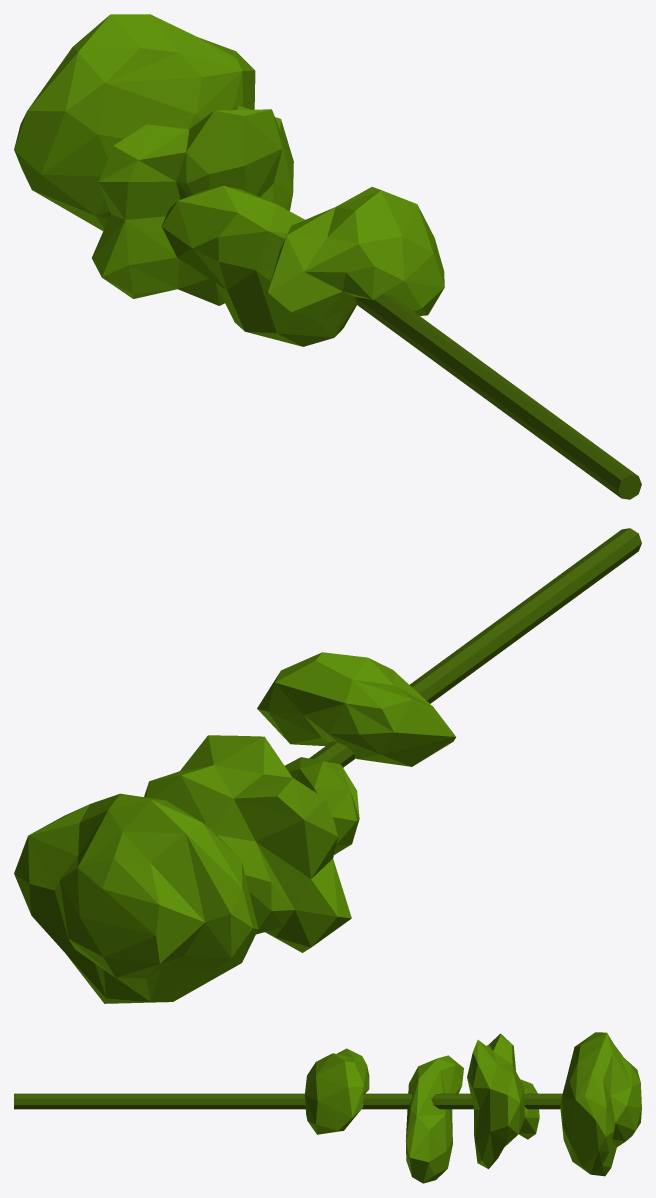
File: Bamboo_v008(UV_Unwrapped).fbx
3 views of the same model, one above another, from view 1: azimuth 30°, elevation 25°; view 2: azimuth 150°, elevation 25°; view 3: azimuth 270°, elevation 25° (orthographic). The views are drawn at different scales.
Visible parts, largest first — view 1: Bamboo_Leaves; view 2: Bamboo_Leaves; view 3: Bamboo_Leaves.
Boxes of the visible parts, x1,y1,x2,y2 form: Bamboo_Leaves: (14, 14, 641, 499); Bamboo_Leaves: (14, 528, 641, 1003); Bamboo_Leaves: (14, 1032, 641, 1183).
Size of the model in its own units: 238 by 214 by 891.
